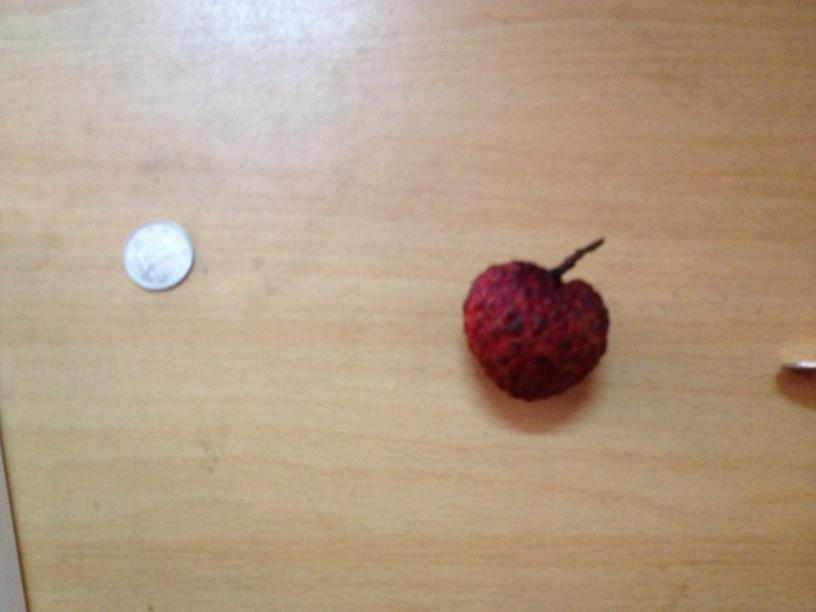coin: (119, 220, 193, 292)
litchi: (462, 254, 610, 400)
